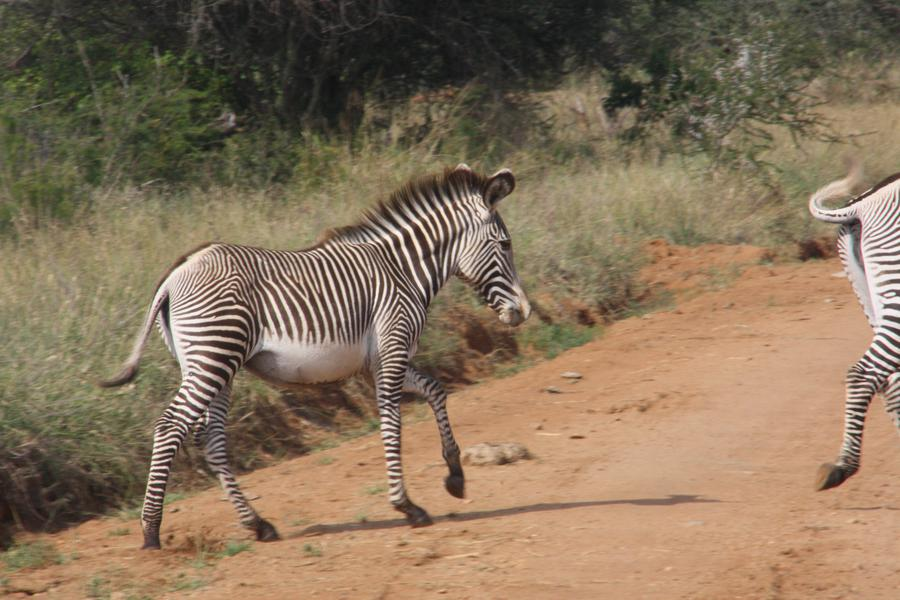zebra_grevys: (172, 237, 417, 353)
